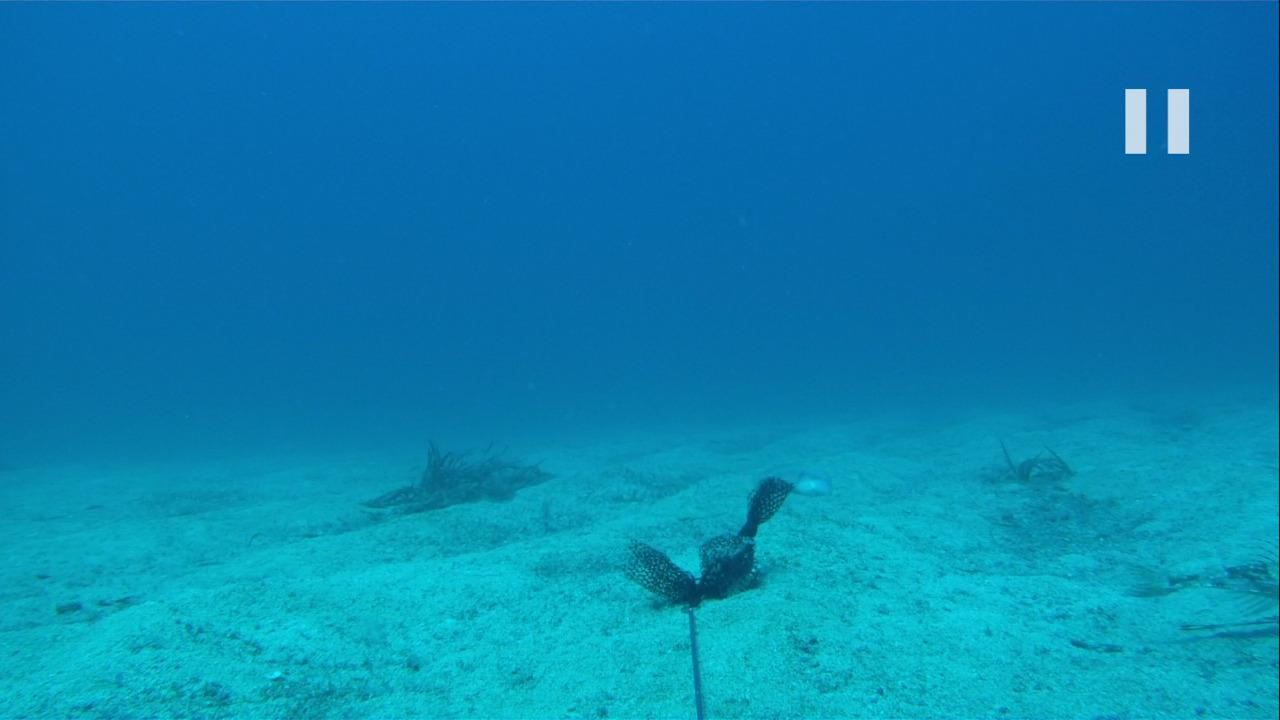dactylopterus: (1108, 556, 1279, 641)
raor: (769, 468, 835, 502)
